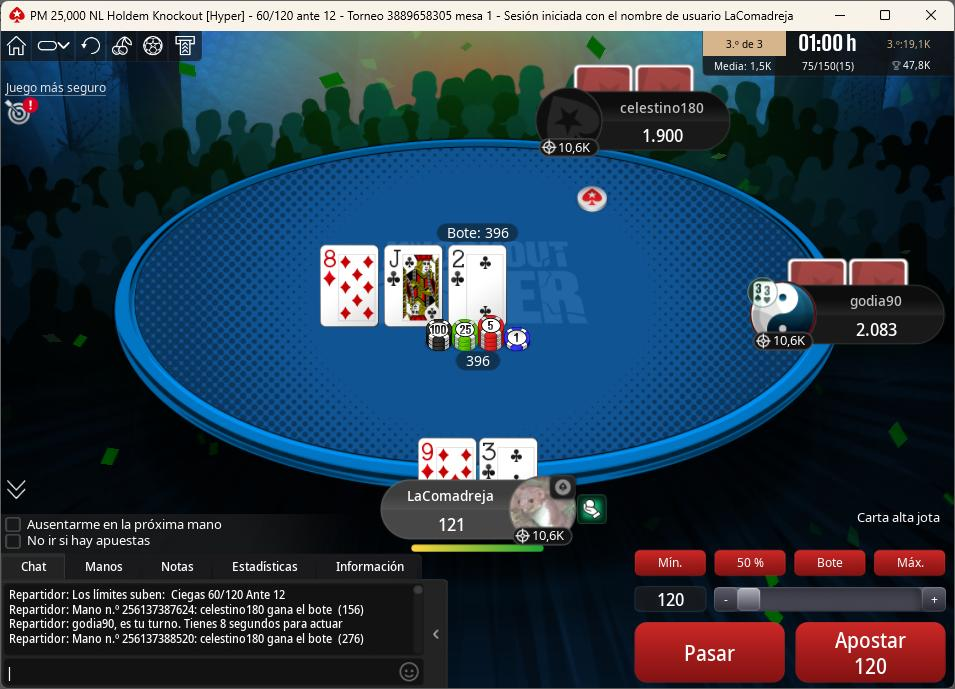ButtonCall: (628, 613, 784, 684)
ButtonMaxRaise: (872, 545, 949, 581)
ButtonMinRaise: (634, 548, 711, 580)
ButtonPotRaise: (792, 542, 871, 580)
ButtonRaise: (792, 618, 947, 684)
Dealer: (568, 181, 619, 216)
HiddenCards: (575, 67, 701, 95), (786, 259, 913, 286)
Player: (748, 283, 951, 352), (544, 90, 733, 158)
PlayerChips: (848, 322, 906, 342)
Pot: (435, 223, 520, 244)
PrincipalCards: (413, 438, 541, 484)
PrincipalCards1: (415, 436, 478, 482)
PrincipalCards2: (481, 437, 542, 482)
PrincipalPlayer: (386, 475, 587, 551)
PrincipalPlayerChips: (432, 517, 474, 538)
ShowedCards: (314, 243, 511, 331)
ShowedCards1: (319, 246, 384, 331)
ShowedCards2: (384, 245, 446, 330)
ShowedCards3: (446, 243, 511, 325)
SmallBigBlind: (247, 2, 346, 30)
TablePot: (418, 314, 551, 380)
